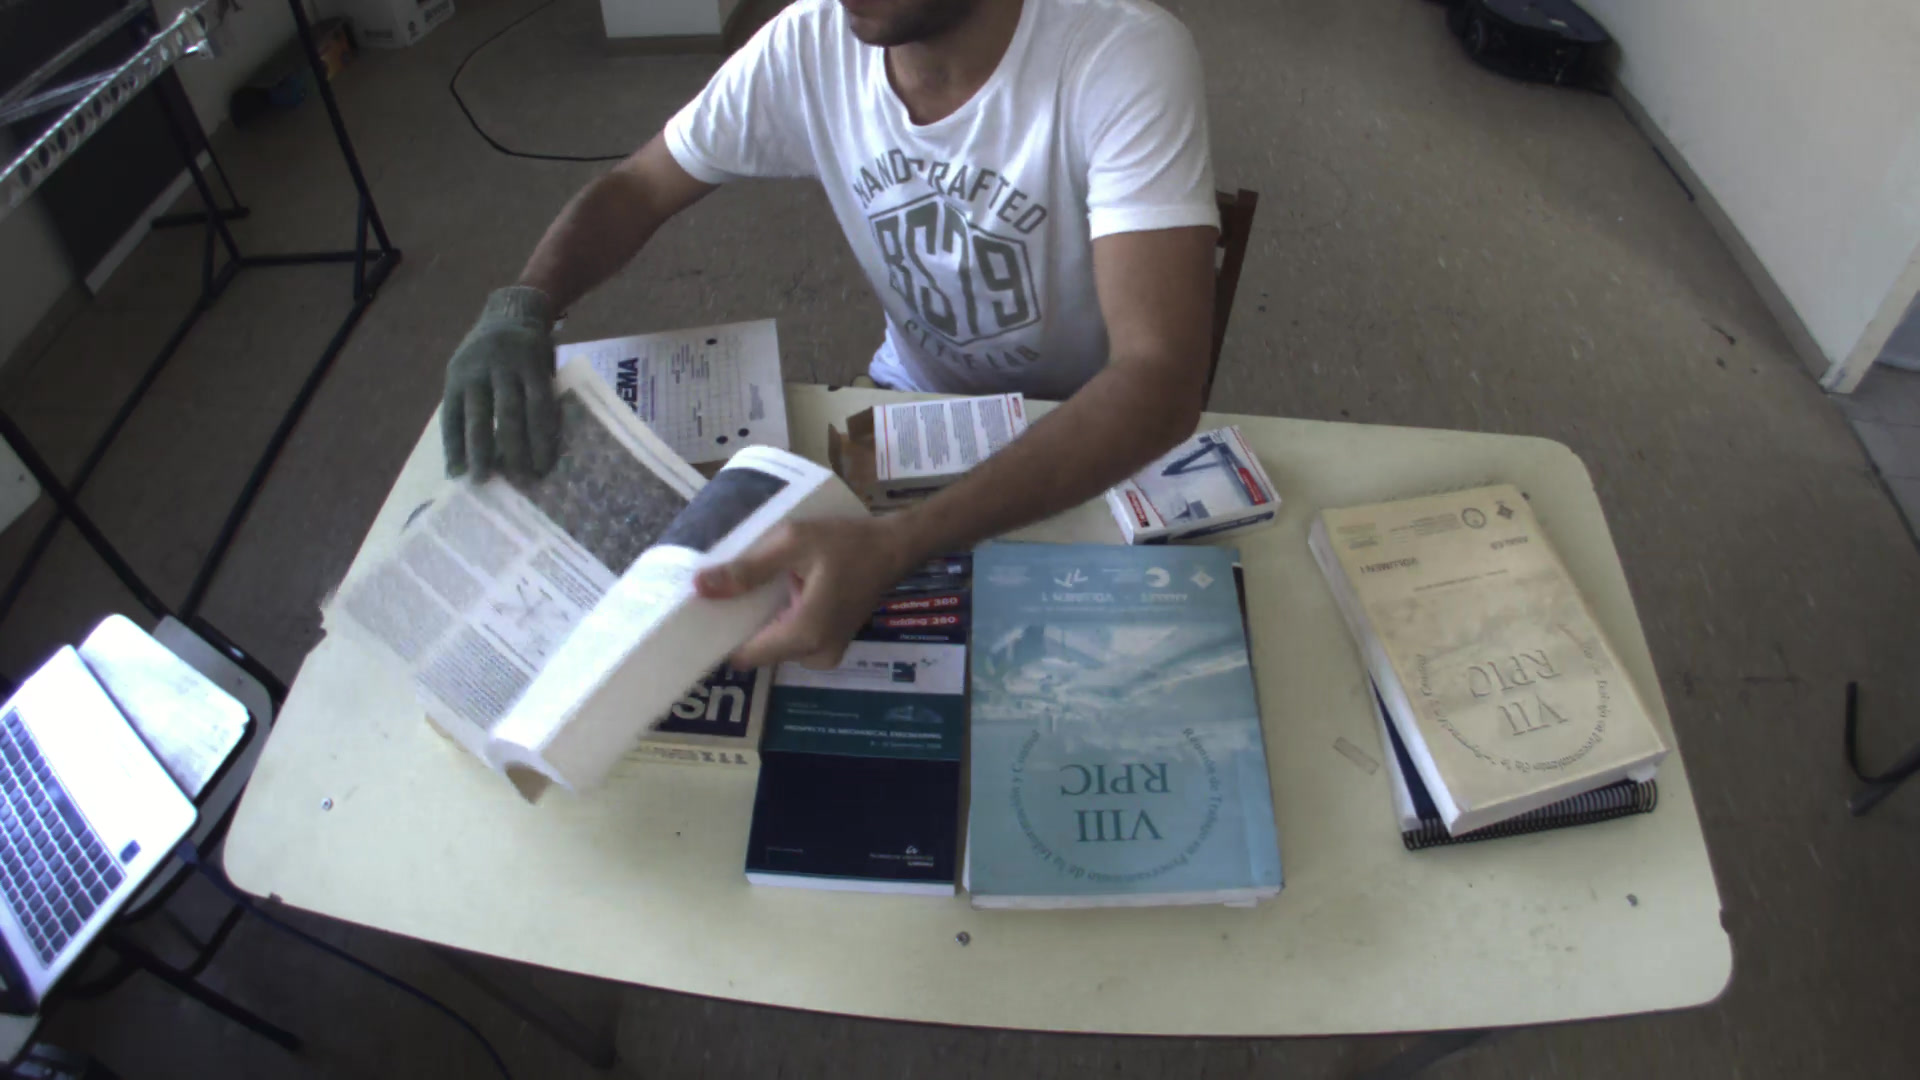hand: (688, 502, 901, 687), (426, 272, 576, 481)
